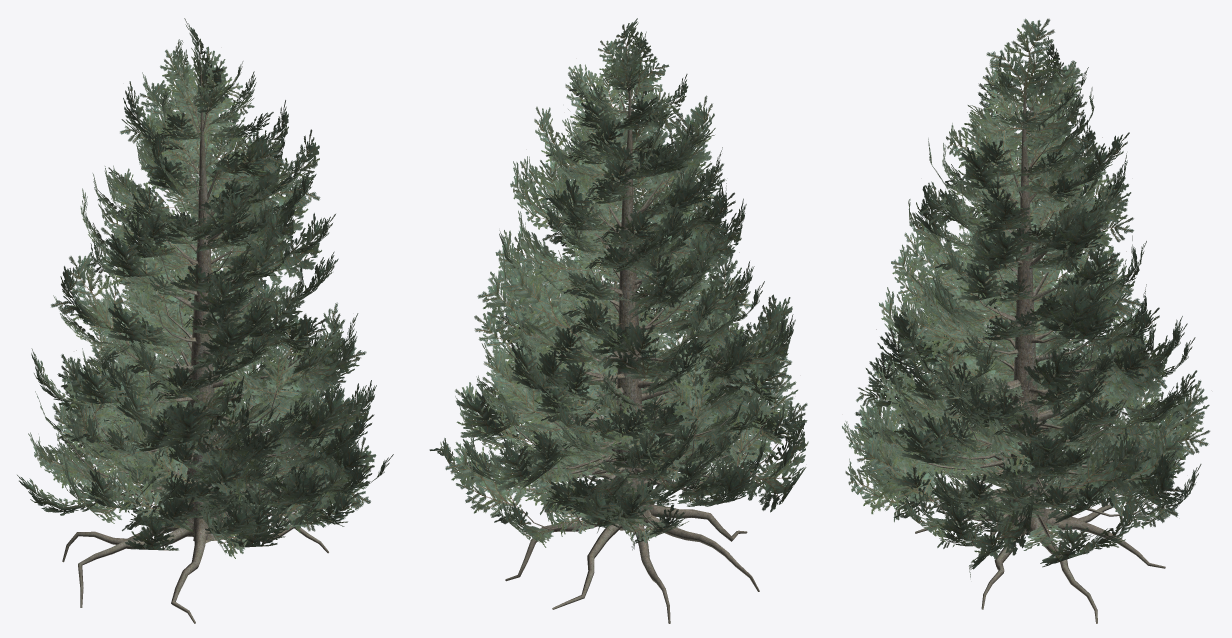
Rendered from fir_tree.glb.
3 views of the same model, side by side, from view 1: azimuth 30°, elevation 25°; view 2: azimuth 150°, elevation 25°; view 3: azimuth 270°, elevation 25° (orthographic).
Visible parts, largest first — view 1: Fir01_LOD0_M_Branch.007_0, Fir01_LOD0_M_Bark.007_0; view 2: Fir01_LOD0_M_Branch.007_0, Fir01_LOD0_M_Bark.007_0; view 3: Fir01_LOD0_M_Branch.007_0, Fir01_LOD0_M_Bark.007_0.
Part boxes in pixels (x1=…): Fir01_LOD0_M_Branch.007_0: x1=17, y1=18, x2=393, y2=558; Fir01_LOD0_M_Bark.007_0: x1=62, y1=64, x2=332, y2=623; Fir01_LOD0_M_Branch.007_0: x1=429, y1=18, x2=808, y2=550; Fir01_LOD0_M_Bark.007_0: x1=485, y1=54, x2=778, y2=623; Fir01_LOD0_M_Branch.007_0: x1=842, y1=18, x2=1210, y2=577; Fir01_LOD0_M_Bark.007_0: x1=898, y1=60, x2=1166, y2=623.
Size of the model in its own units: 8.68 by 13.42 by 8.15.
Materials: 2 (2 with a texture image).
